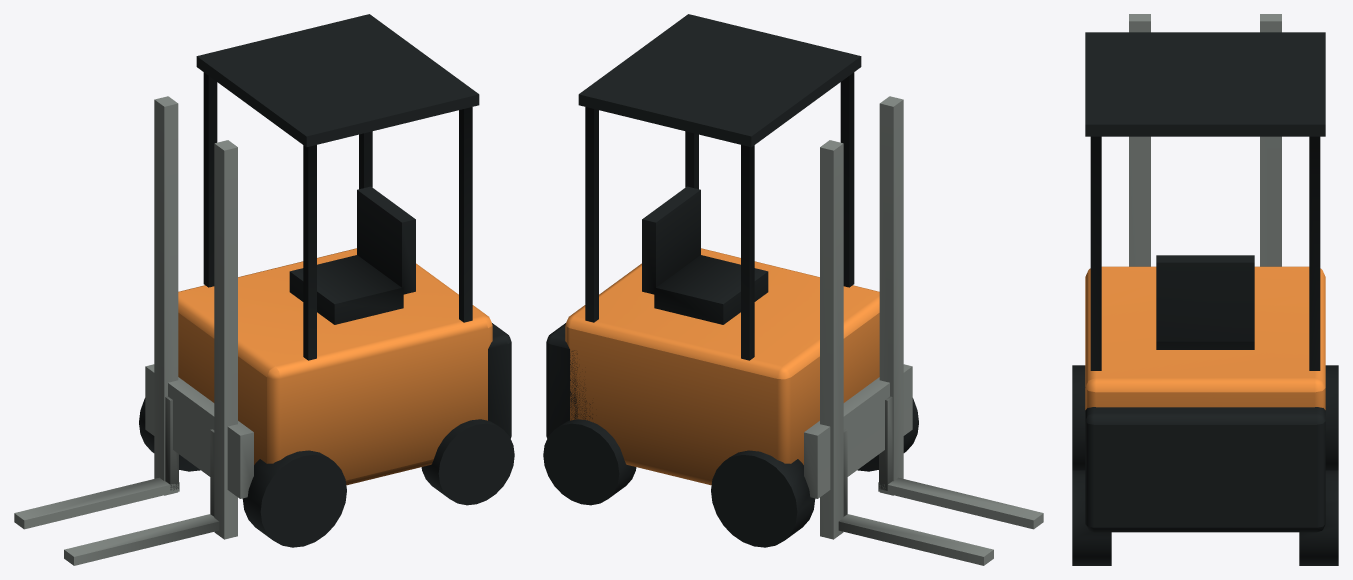
The model's file is forklift.glb.
3 renders of one model, left to right at view 1: azimuth 30°, elevation 25°; view 2: azimuth 150°, elevation 25°; view 3: azimuth 270°, elevation 25°, orthographic. The views are drawn at different scales.
Parts seen in each view (by area): view 1: Forklift; view 2: Forklift; view 3: Forklift.
Part boxes in pixels (x1,y1,x2,y2): Forklift: [14, 14, 514, 565]; Forklift: [543, 14, 1043, 565]; Forklift: [1072, 14, 1338, 565].
Size of the model in its own units: 2.4 by 2.23 by 1.22.
